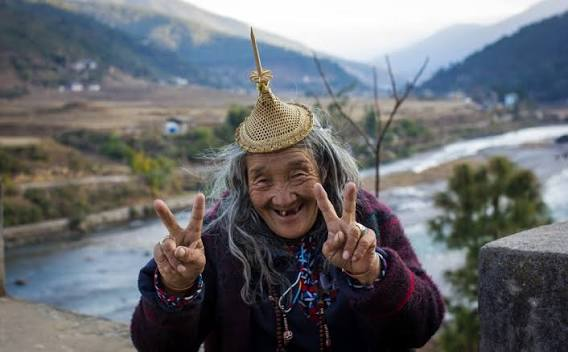peace_sign: (309, 183, 384, 272), (143, 187, 211, 284)
